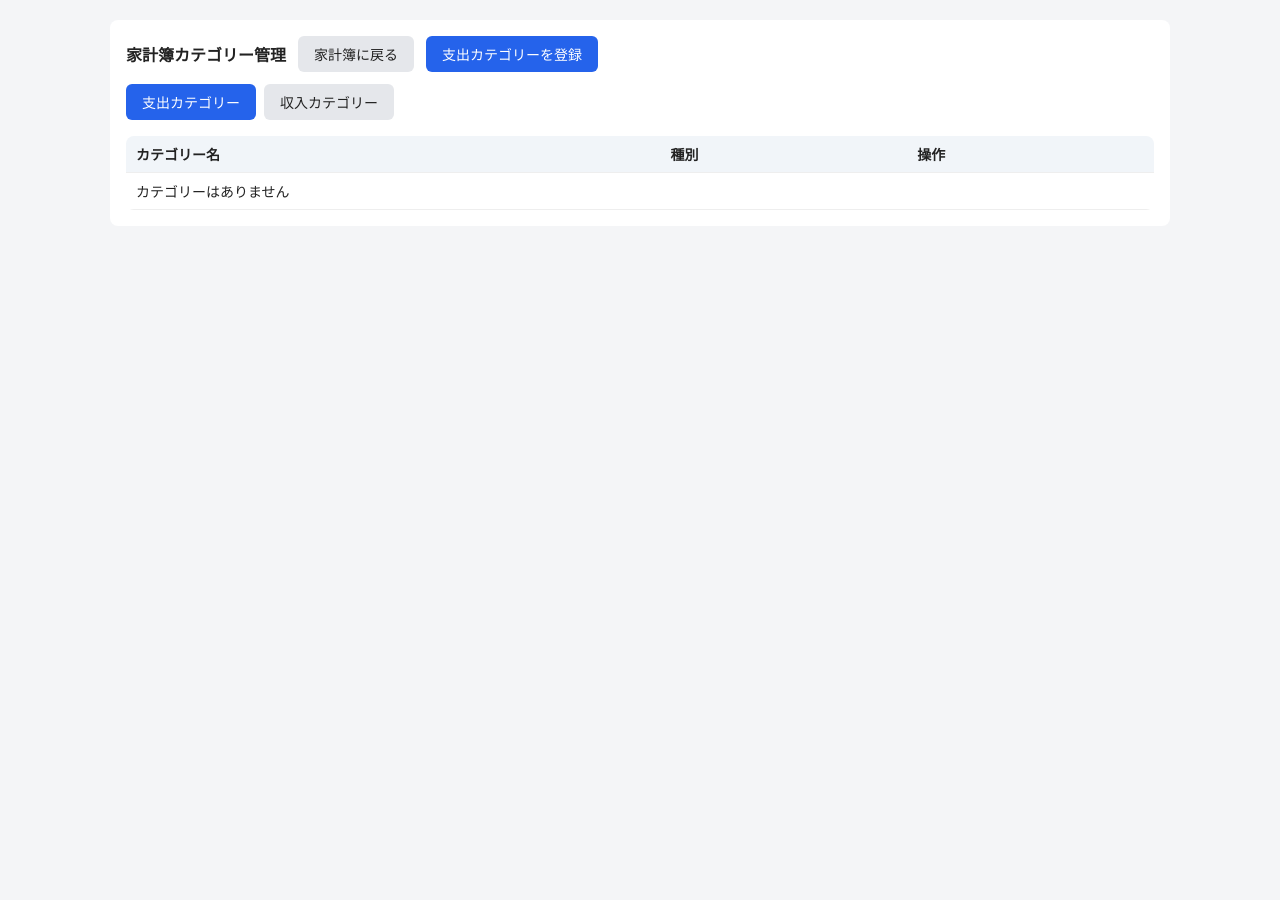
KakeiboCategoriesPage › 収入タブで登録するとPOST /api/income-categoriesが呼ばれる
Expected: the text "カテゴリーはありません" is shown, [126,172,1154,210]
Click the tab "収入カテゴリー" at (329, 102), box [264,84,394,120]
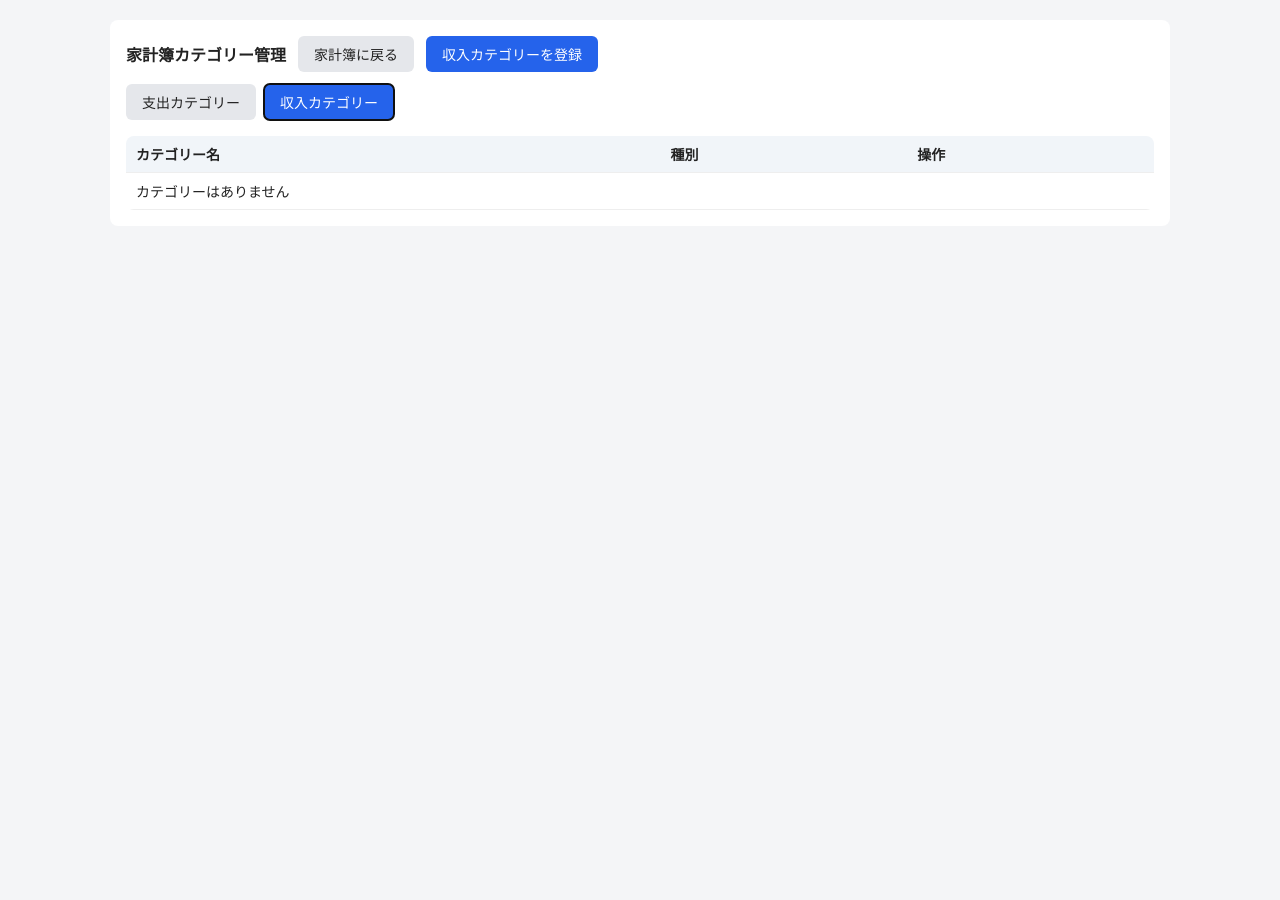
Click the button "収入カテゴリーを登録" at (512, 54), box [426,36,598,72]
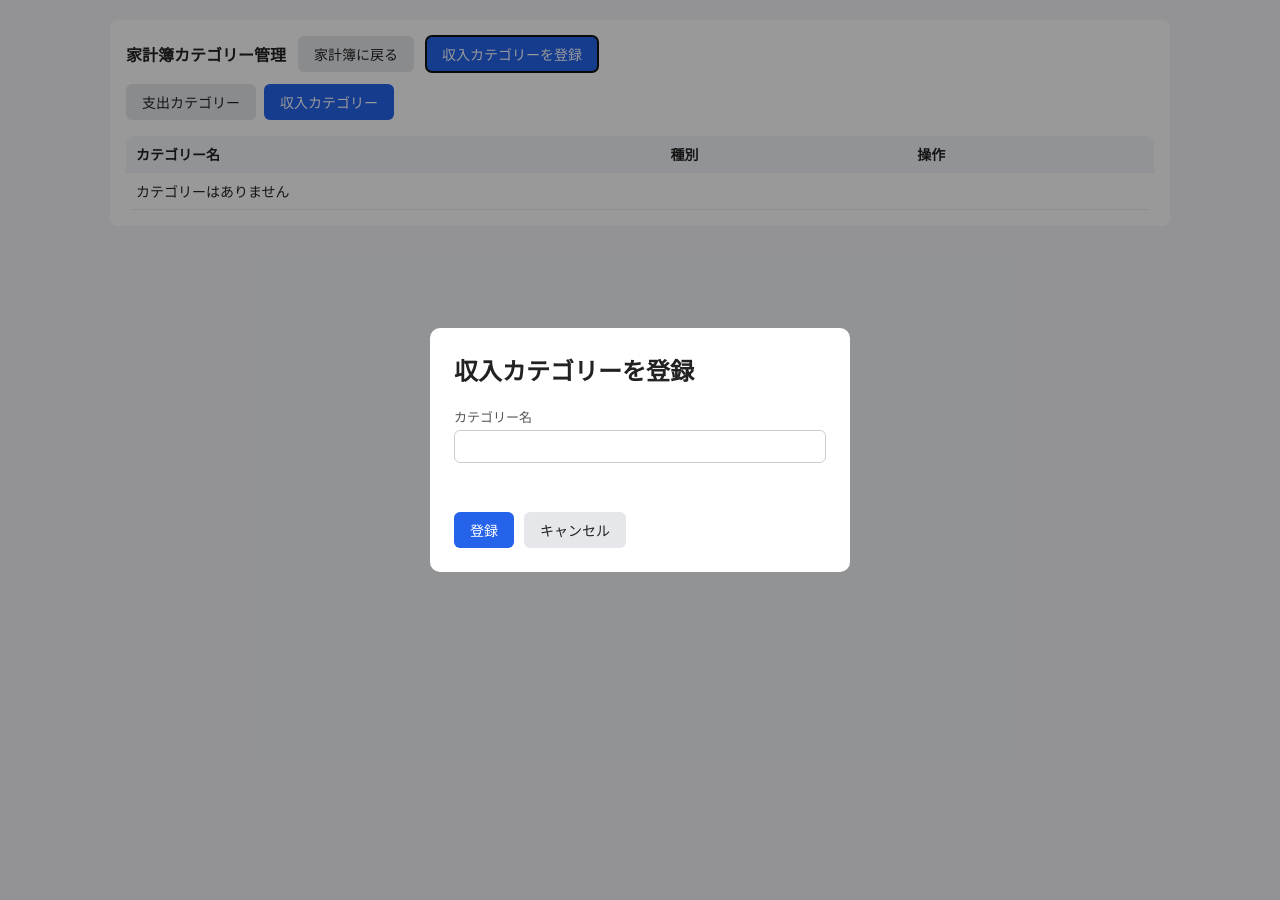
Type "臨時収入" into the field labelled "カテゴリー名" at (640, 446), box [454,430,826,463]
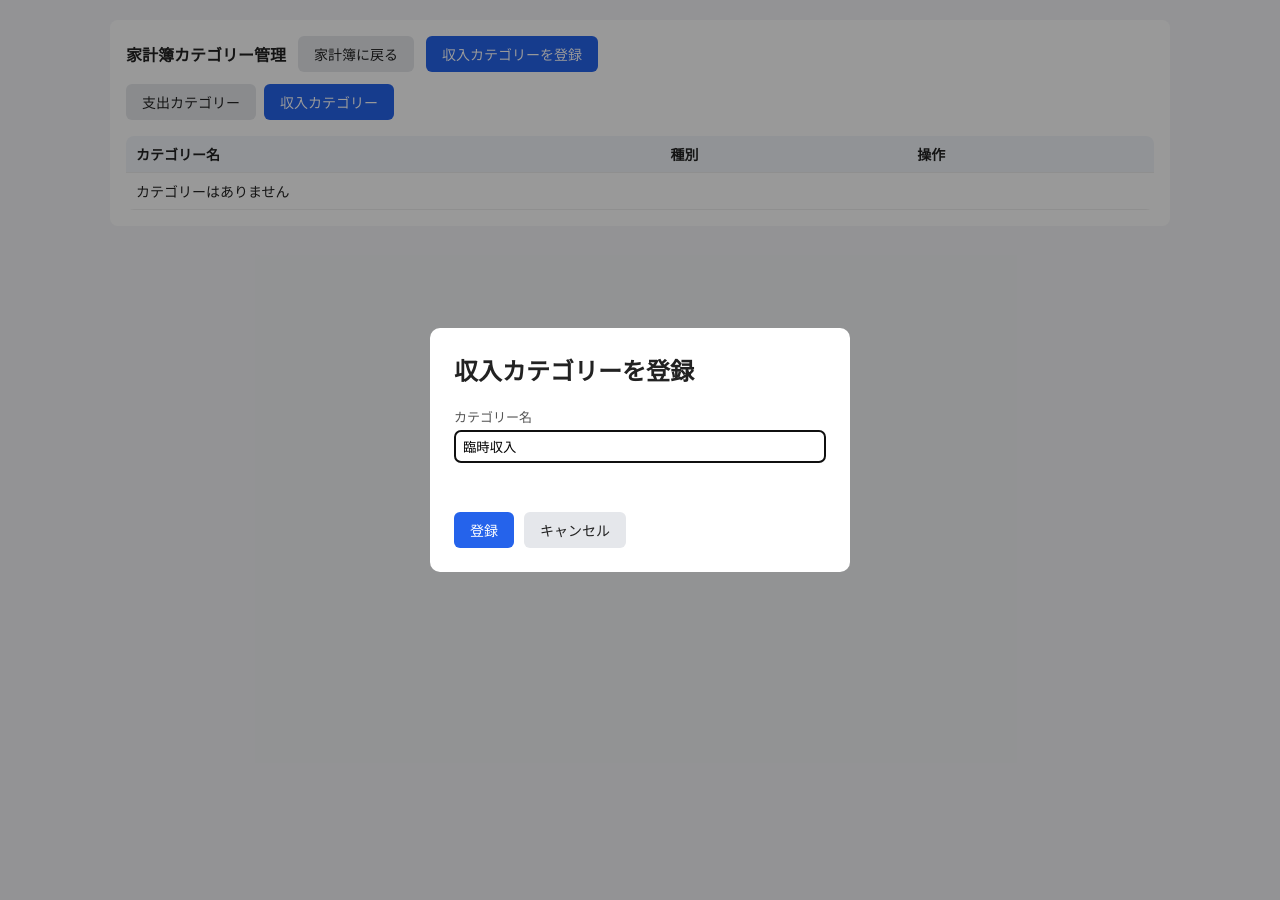
Click the button "登録" at (484, 530), box [454,512,514,548]
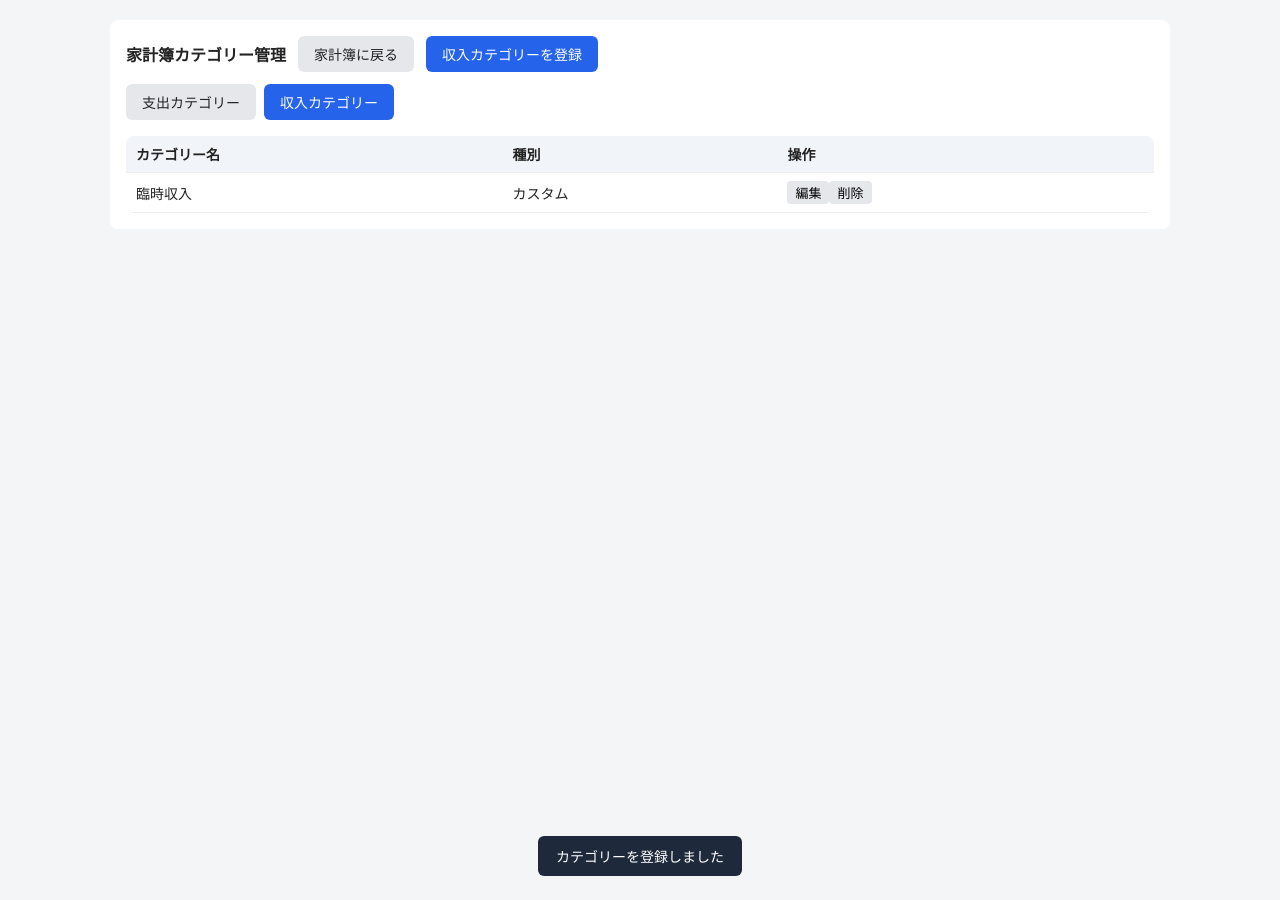
Result: the text "臨時収入" is shown at [126,172,502,212]
